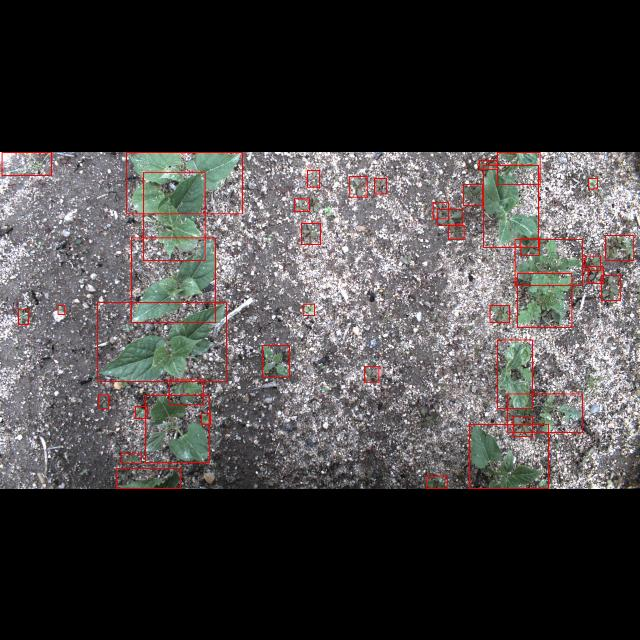crop: (98, 301, 226, 381), (131, 236, 215, 322), (126, 151, 242, 213), (143, 170, 204, 260), (469, 424, 548, 488), (484, 164, 538, 246), (145, 396, 209, 462), (498, 339, 532, 408), (498, 151, 540, 183), (116, 468, 180, 488)
weed: (515, 238, 583, 284), (516, 272, 572, 326), (508, 393, 582, 432), (2, 152, 52, 174), (262, 345, 290, 377), (168, 380, 204, 404), (606, 234, 634, 260), (602, 274, 620, 300), (438, 208, 462, 226), (302, 222, 321, 244), (463, 183, 482, 204), (514, 416, 532, 436), (490, 304, 510, 322), (349, 176, 366, 197), (520, 238, 540, 255), (364, 366, 380, 382), (585, 254, 601, 270), (588, 266, 604, 282), (427, 476, 448, 488), (306, 170, 320, 187), (434, 202, 448, 218), (448, 224, 464, 238), (121, 453, 141, 463), (375, 177, 387, 193), (294, 198, 310, 210), (479, 159, 497, 169), (134, 406, 148, 418), (18, 308, 28, 324), (98, 394, 108, 408), (304, 304, 314, 314), (588, 178, 598, 188), (202, 412, 210, 423), (58, 304, 64, 314)
